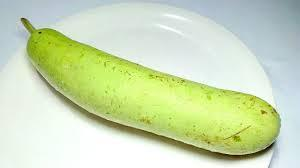bottle gourd: (19, 15, 281, 156)
